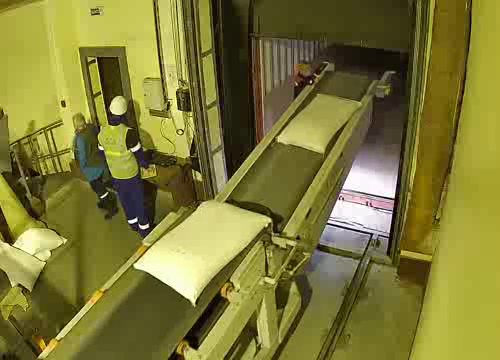bag: (131, 196, 278, 309), (274, 90, 364, 155)
